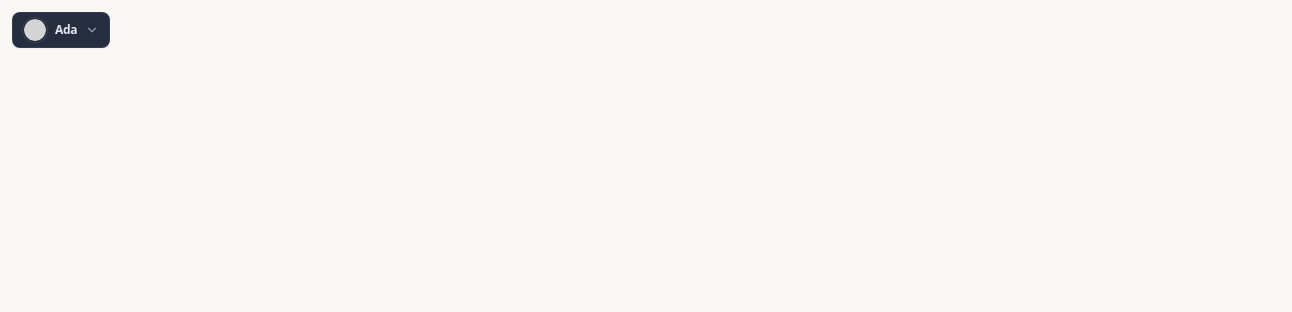
it: UserMenu (Task 1.10) › opens and closes on trigger click with proper ARIA attributes
Click the button with aria-label "Profile Menu" at (61, 30), box x1=12 y1=12 x2=110 y2=48
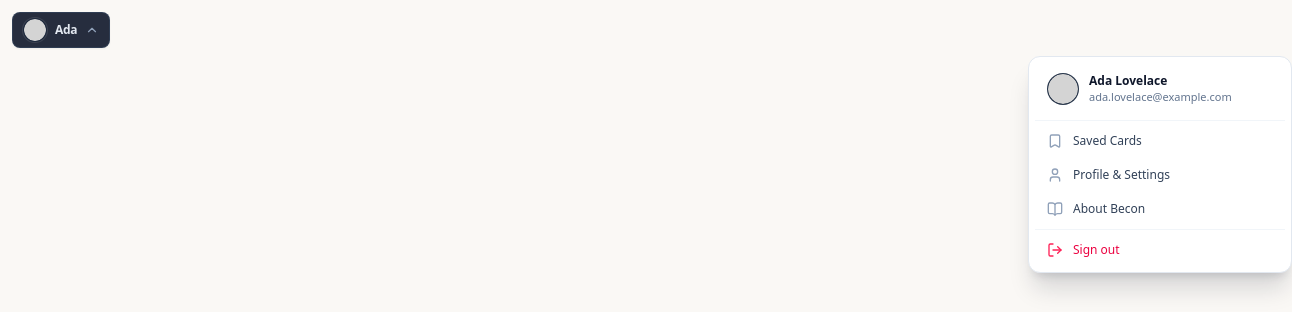
Check: the button with aria-label "Profile Menu" is expanded
Check: the menu is shown, box x1=1028 y1=56 x2=1291 y2=272
// Close on second click
Click the button with aria-label "Profile Menu" at (61, 30), box x1=12 y1=12 x2=110 y2=48
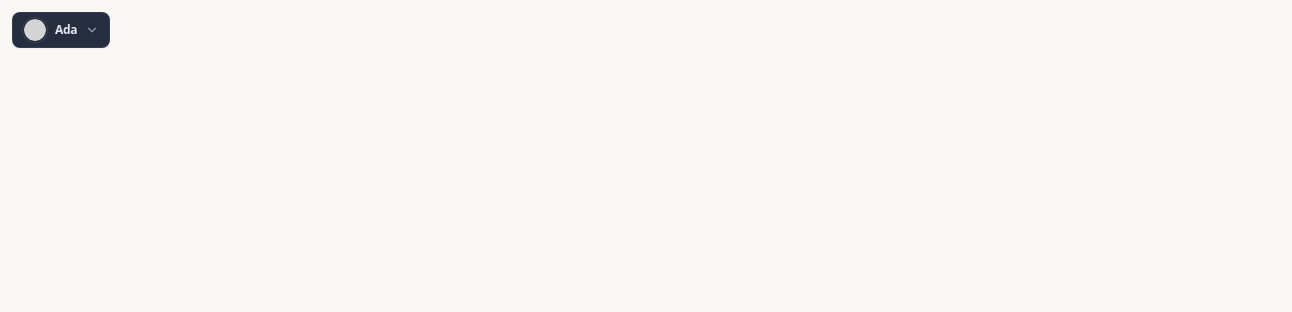
Check: the button with aria-label "Profile Menu" is collapsed, box x1=12 y1=12 x2=110 y2=48
Check: the menu is gone
